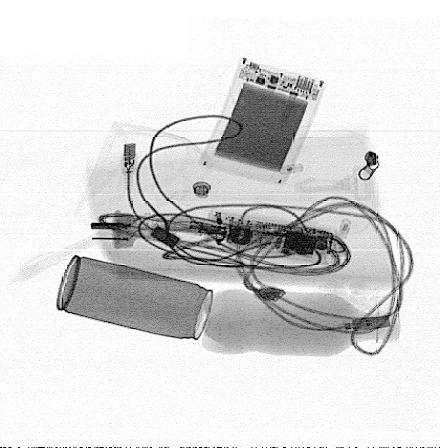Powerbank: (198, 56, 328, 186)
